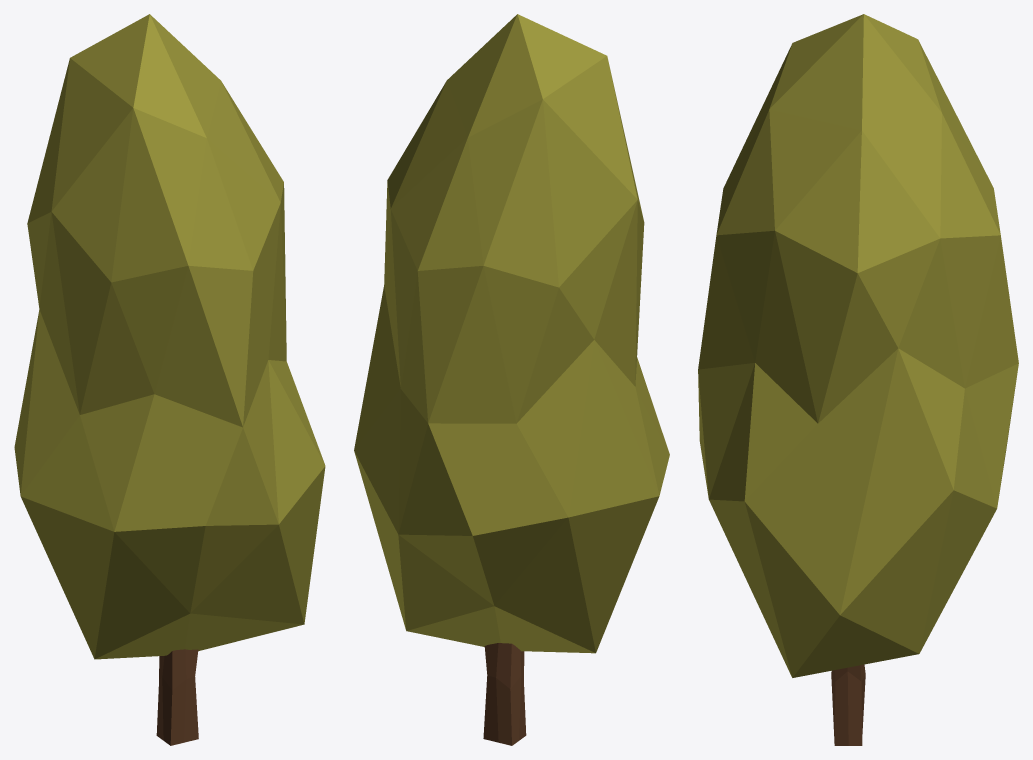
Rendered from Tree_60_Yellow.fbx.
The picture shows the model from 3 angles, left to right: view 1: azimuth 30°, elevation 25°; view 2: azimuth 150°, elevation 25°; view 3: azimuth 270°, elevation 25°; orthographic projection. The views are drawn at different scales.
Visible parts, largest first — view 1: Tree_60_Yellow_Part_1, Tree_60_Yellow_Part_2; view 2: Tree_60_Yellow_Part_1, Tree_60_Yellow_Part_2; view 3: Tree_60_Yellow_Part_1, Tree_60_Yellow_Part_2.
Boxes of the visible parts, x1,y1,x2,y2 form: Tree_60_Yellow_Part_1: (14,14,325,659); Tree_60_Yellow_Part_2: (156,649,198,745); Tree_60_Yellow_Part_1: (354,14,669,653); Tree_60_Yellow_Part_2: (483,643,526,745); Tree_60_Yellow_Part_1: (698,14,1018,677); Tree_60_Yellow_Part_2: (831,664,865,745).
Size of the model in its own units: 327 by 788 by 320.
